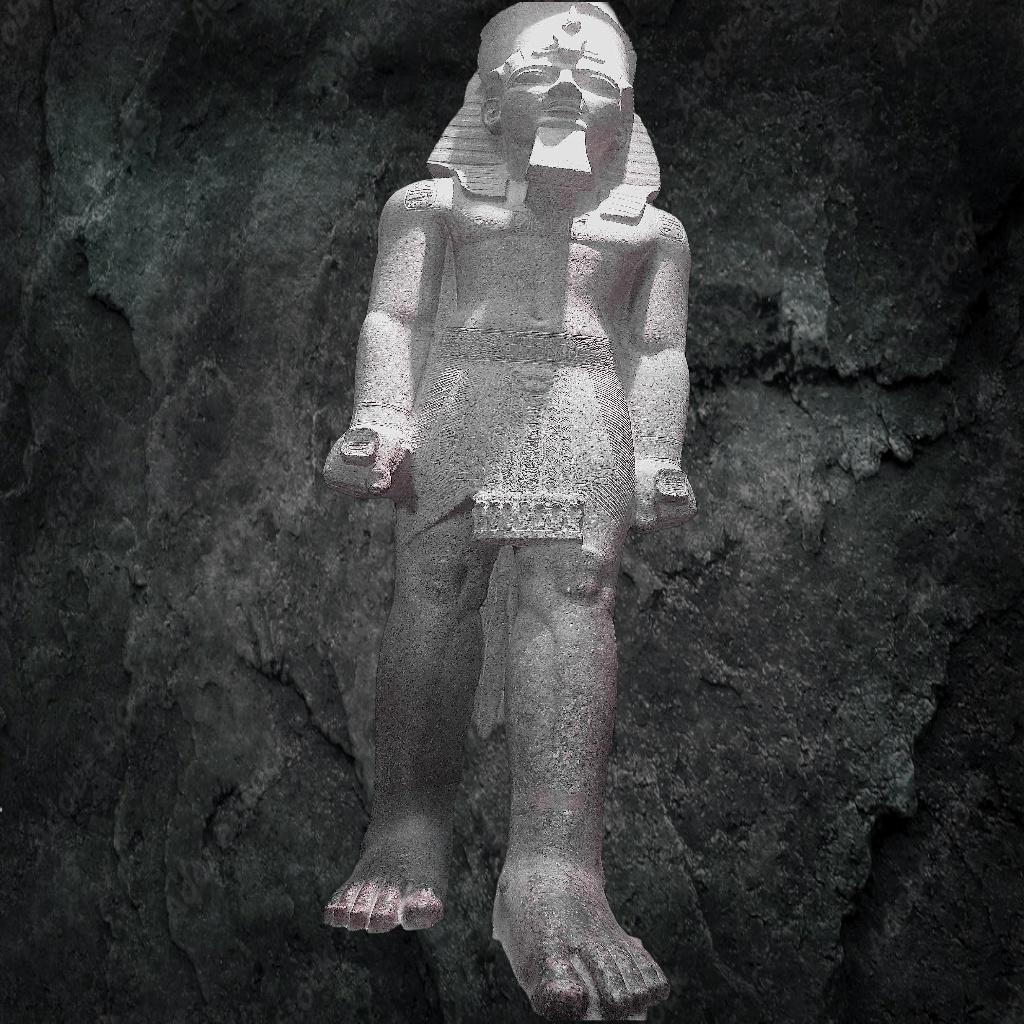Colossal Statue of Ramesses II: (309, 2, 704, 1020)
